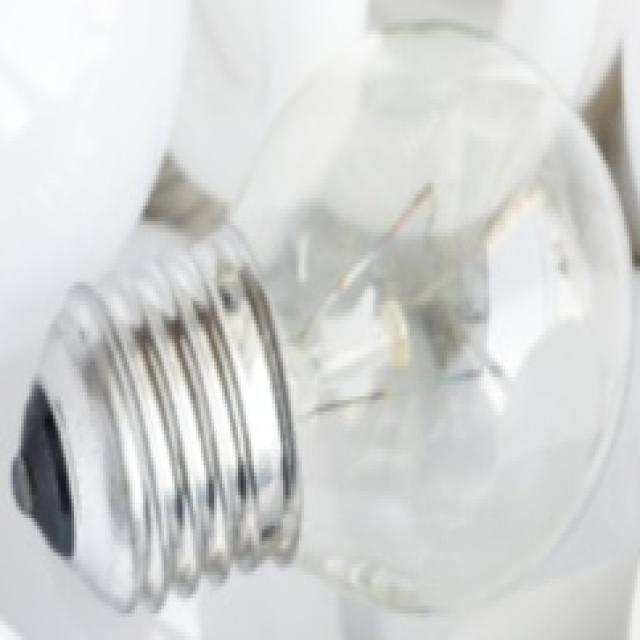bulb: (5, 0, 640, 617)
